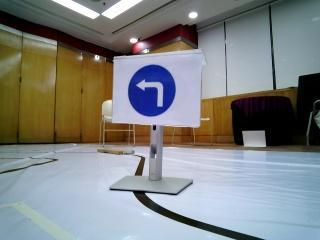left: (117, 60, 186, 123)
